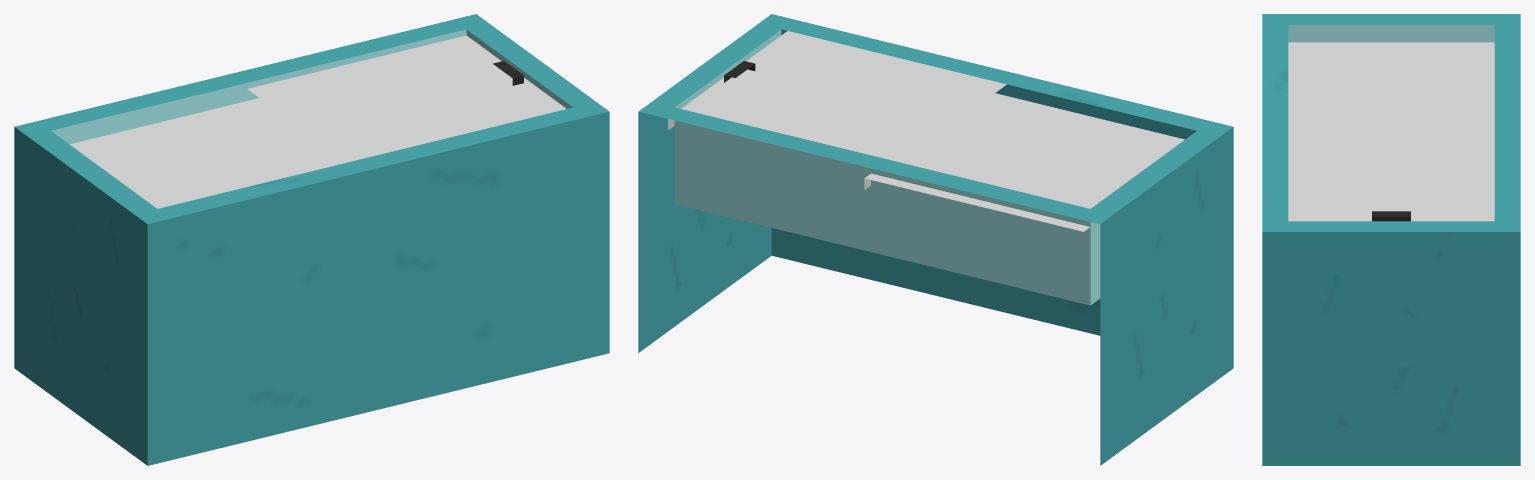
File: FishShalf.fbx
3 renders of one model, left to right at view 1: azimuth 30°, elevation 25°; view 2: azimuth 150°, elevation 25°; view 3: azimuth 270°, elevation 25°, orthographic. The views are drawn at different scales.
Parts seen in each view (by area): view 1: Shalf, Door, Glass; view 2: Shalf, Door, Glass; view 3: Shalf, Door, Glass, Ruchka.
Boxes of the visible parts, bbox=[...] form: Shalf: bbox=[14, 14, 609, 465]; Door: bbox=[247, 35, 566, 162]; Glass: bbox=[69, 98, 347, 208]; Shalf: bbox=[638, 14, 1233, 465]; Door: bbox=[668, 31, 1006, 162]; Glass: bbox=[864, 93, 1184, 231]; Shalf: bbox=[1262, 14, 1520, 465]; Door: bbox=[1288, 123, 1494, 221]; Glass: bbox=[1288, 42, 1494, 123]; Ruchka: bbox=[1372, 211, 1410, 221].
Size of the model in its own units: 400 by 201 by 200.
